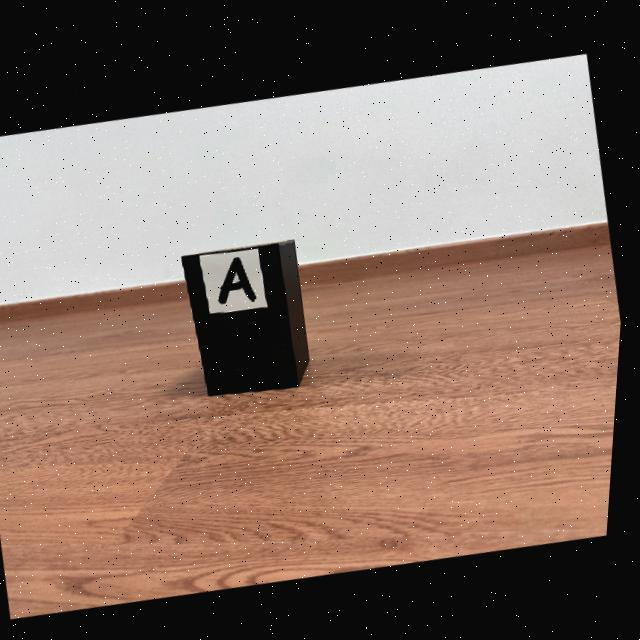A: (222, 255, 260, 302)
